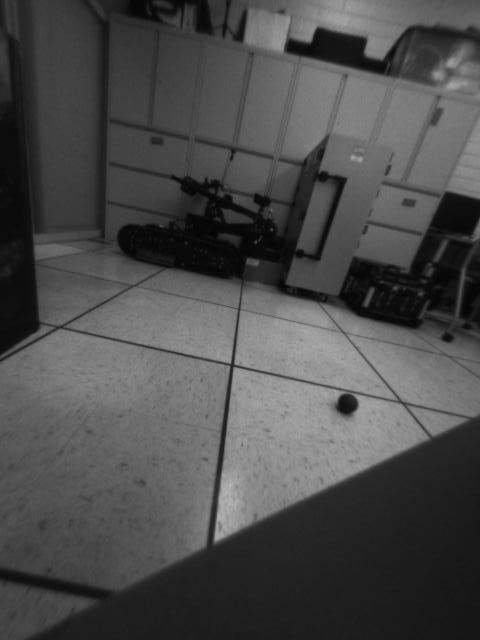dogtoy: (332, 385, 369, 425)
